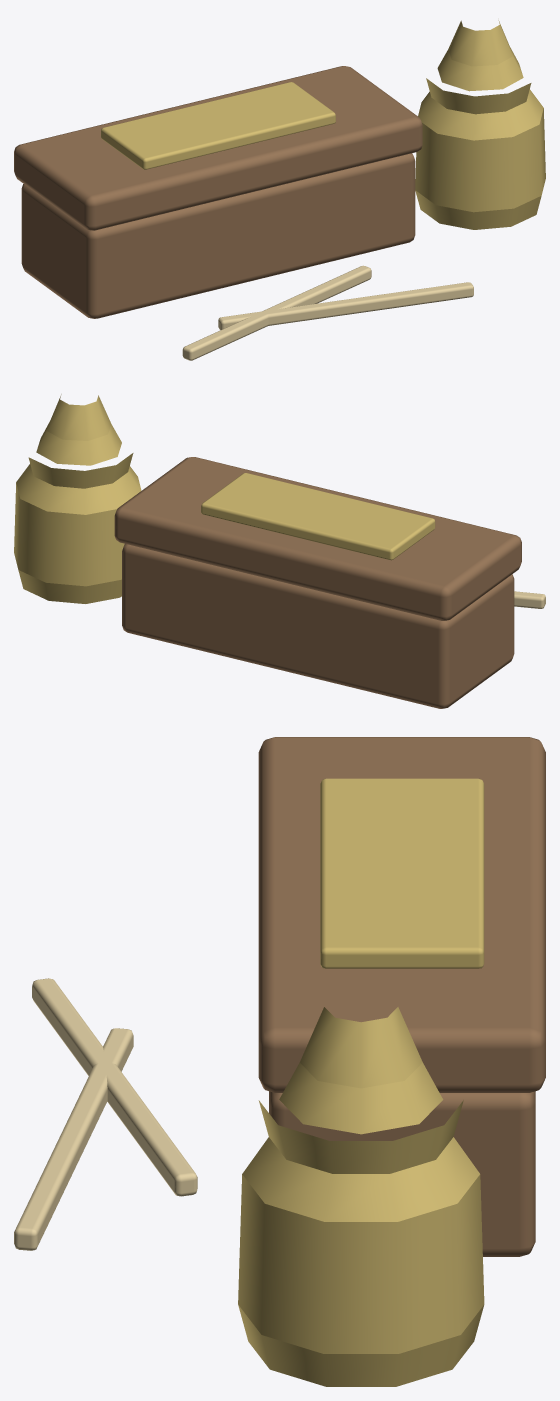
File: inkwell-and-pen-bo-1b6a2e9c.glb
3 views of the same model, one above another, from view 1: azimuth 30°, elevation 25°; view 2: azimuth 150°, elevation 25°; view 3: azimuth 270°, elevation 25° (orthographic). The views are drawn at different scales.
Visible parts, largest first — view 1: inkwell-and-pen-box, lid-penbox/cedar, lid-penbox/brass; view 2: inkwell-and-pen-box, lid-penbox/cedar, lid-penbox/brass; view 3: inkwell-and-pen-box, lid-penbox/cedar, lid-penbox/brass.
Boxes of the visible parts, bbox=[...] form: inkwell-and-pen-box: bbox=[21, 20, 545, 360]; lid-penbox/cedar: bbox=[14, 66, 422, 230]; lid-penbox/brass: bbox=[101, 82, 335, 169]; inkwell-and-pen-box: bbox=[14, 394, 545, 708]; lid-penbox/cedar: bbox=[114, 457, 521, 620]; lid-penbox/brass: bbox=[201, 473, 435, 560]; inkwell-and-pen-box: bbox=[14, 978, 535, 1386]; lid-penbox/cedar: bbox=[258, 737, 545, 1092]; lid-penbox/brass: bbox=[320, 778, 484, 968].
Size of the model in its own units: 0.4921 by 0.18 by 0.2591.
